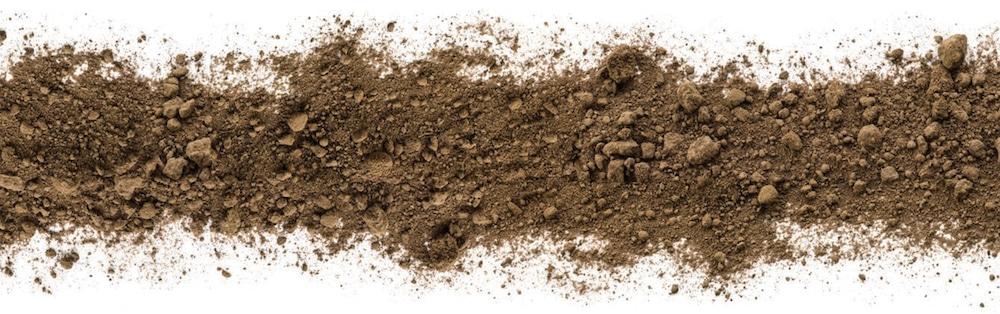dirt: (0, 39, 997, 268)
